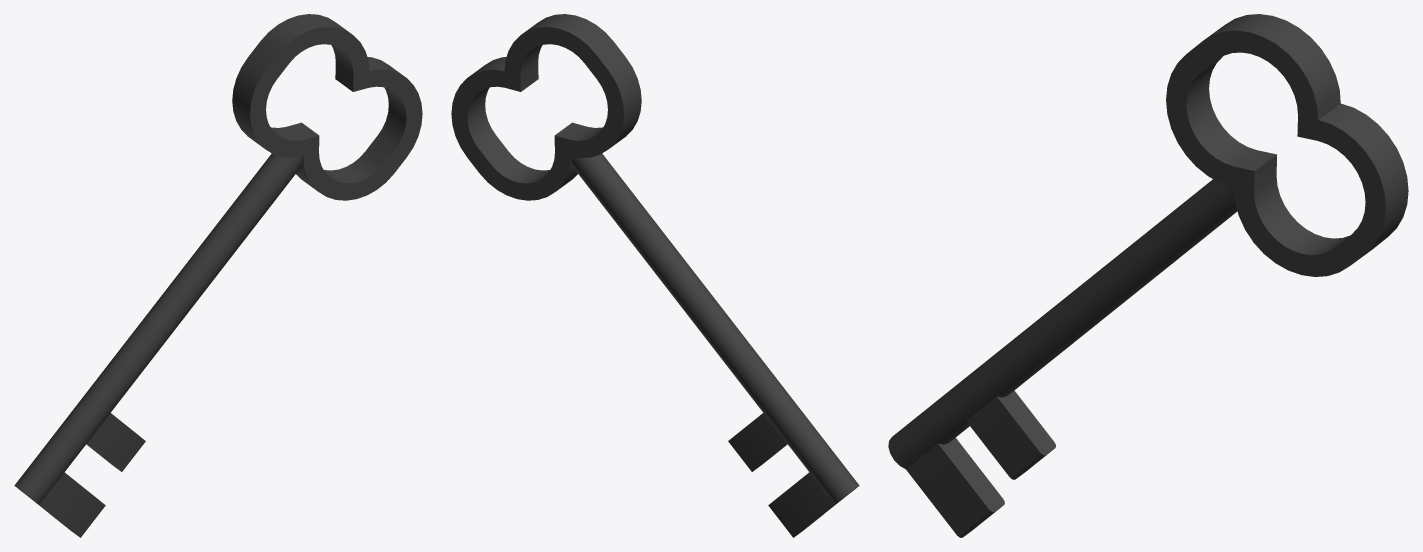
File: old_key.fbx
The picture shows the model from 3 angles, left to right: view 1: azimuth 30°, elevation 25°; view 2: azimuth 150°, elevation 25°; view 3: azimuth 330°, elevation 25°; orthographic projection. The views are drawn at different scales.
Parts seen in each view (by area): view 1: Circle.2582; view 2: Circle.2582; view 3: Circle.2582.
Part boxes in pixels (left/top/right/bottom): Circle.2582: left=14, top=14, right=422, bottom=537; Circle.2582: left=451, top=14, right=859, bottom=537; Circle.2582: left=888, top=14, right=1408, bottom=537.
Bounding box in the file's own units: 200 × 220 × 15.49.
Materials: 1 (1 with a texture image).
